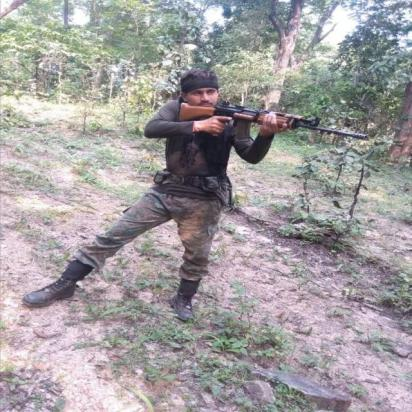Gun: (176, 100, 370, 145)
